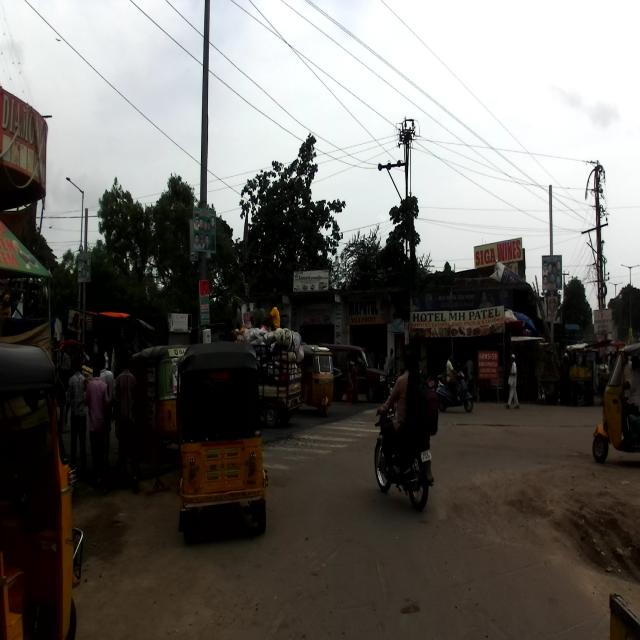autorickshaw: (175, 339, 268, 546), (129, 344, 192, 454)
car: (319, 342, 391, 402)
motorcycle: (374, 406, 434, 511)
